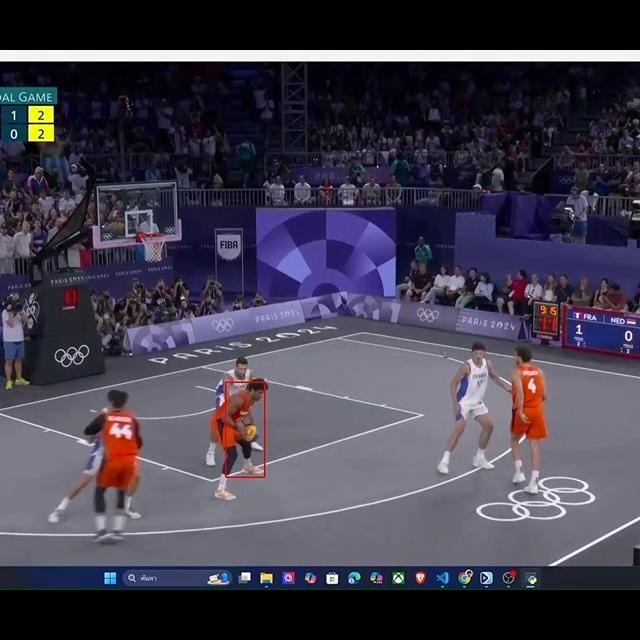basketball: (244, 422, 258, 445)
hoop: (138, 229, 167, 266)
